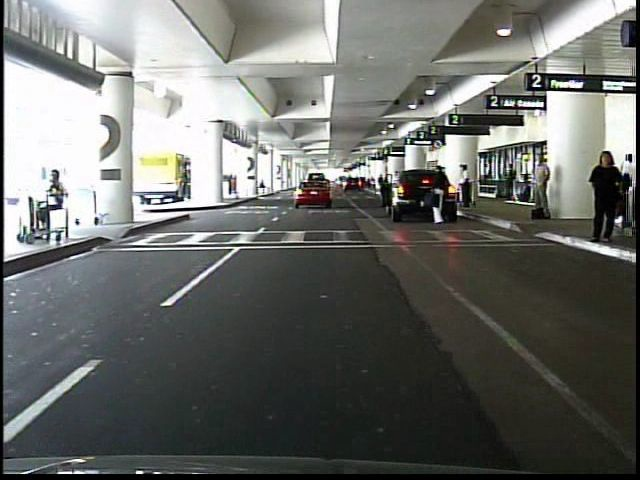person: (587, 148, 624, 247), (20, 165, 68, 241), (613, 153, 635, 218), (432, 164, 449, 225), (457, 164, 472, 210), (505, 162, 518, 201)
